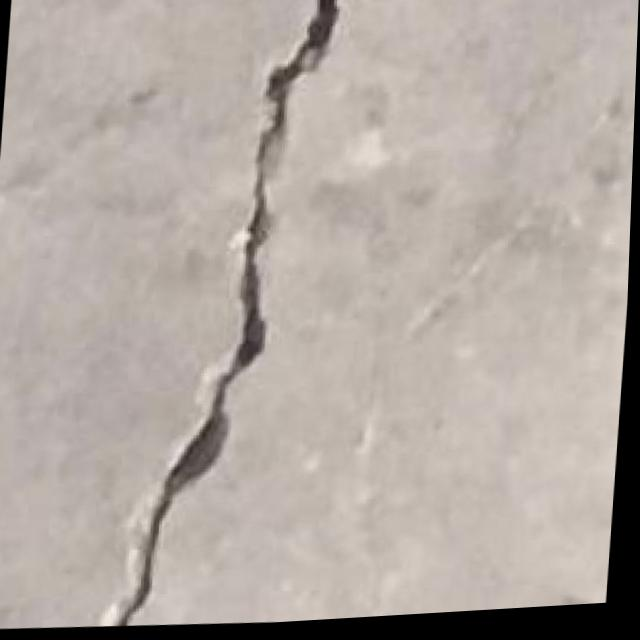Crack: (99, 0, 351, 635)
